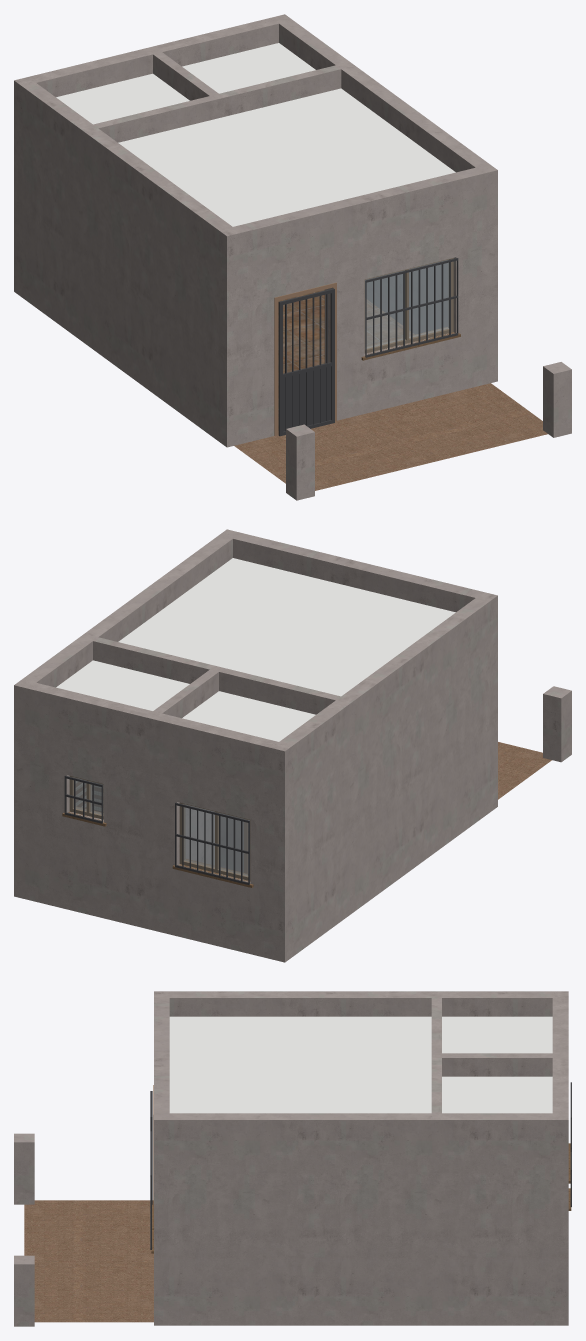
The model's file is room_interior.glb.
3 views of the same model, one above another, from view 1: azimuth 30°, elevation 25°; view 2: azimuth 150°, elevation 25°; view 3: azimuth 270°, elevation 25° (orthographic). The views are drawn at different scales.
Visible parts, largest first — view 1: room_interior_static, ceiling_mesh, door_f0_room_veranda_security_mesh; view 2: room_interior_static, ceiling_mesh; view 3: room_interior_static, ceiling_mesh.
Part boxes in pixels (box(x1,y1,x2,y2)): room_interior_static: box(14, 14, 571, 500); ceiling_mesh: box(56, 43, 455, 226); door_f0_room_veranda_security_mesh: box(278, 288, 334, 436); room_interior_static: box(14, 529, 571, 962); ceiling_mesh: box(56, 558, 455, 741); room_interior_static: box(14, 991, 571, 1326); ceiling_mesh: box(169, 1016, 552, 1113).
Size of the model in its own units: 4.5 by 3.3 by 8.12.
Materials: 14 (9 with a texture image).
